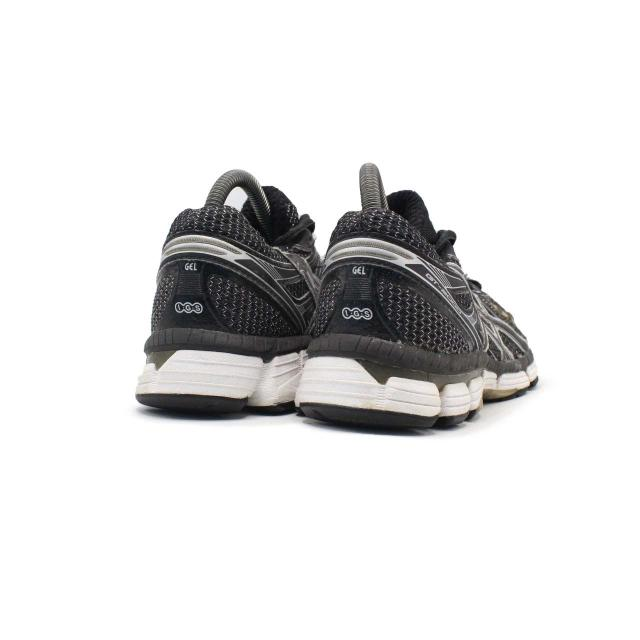heel: (309, 214, 457, 360), (150, 206, 298, 332)
midsole: (292, 336, 539, 433), (133, 327, 310, 413)
